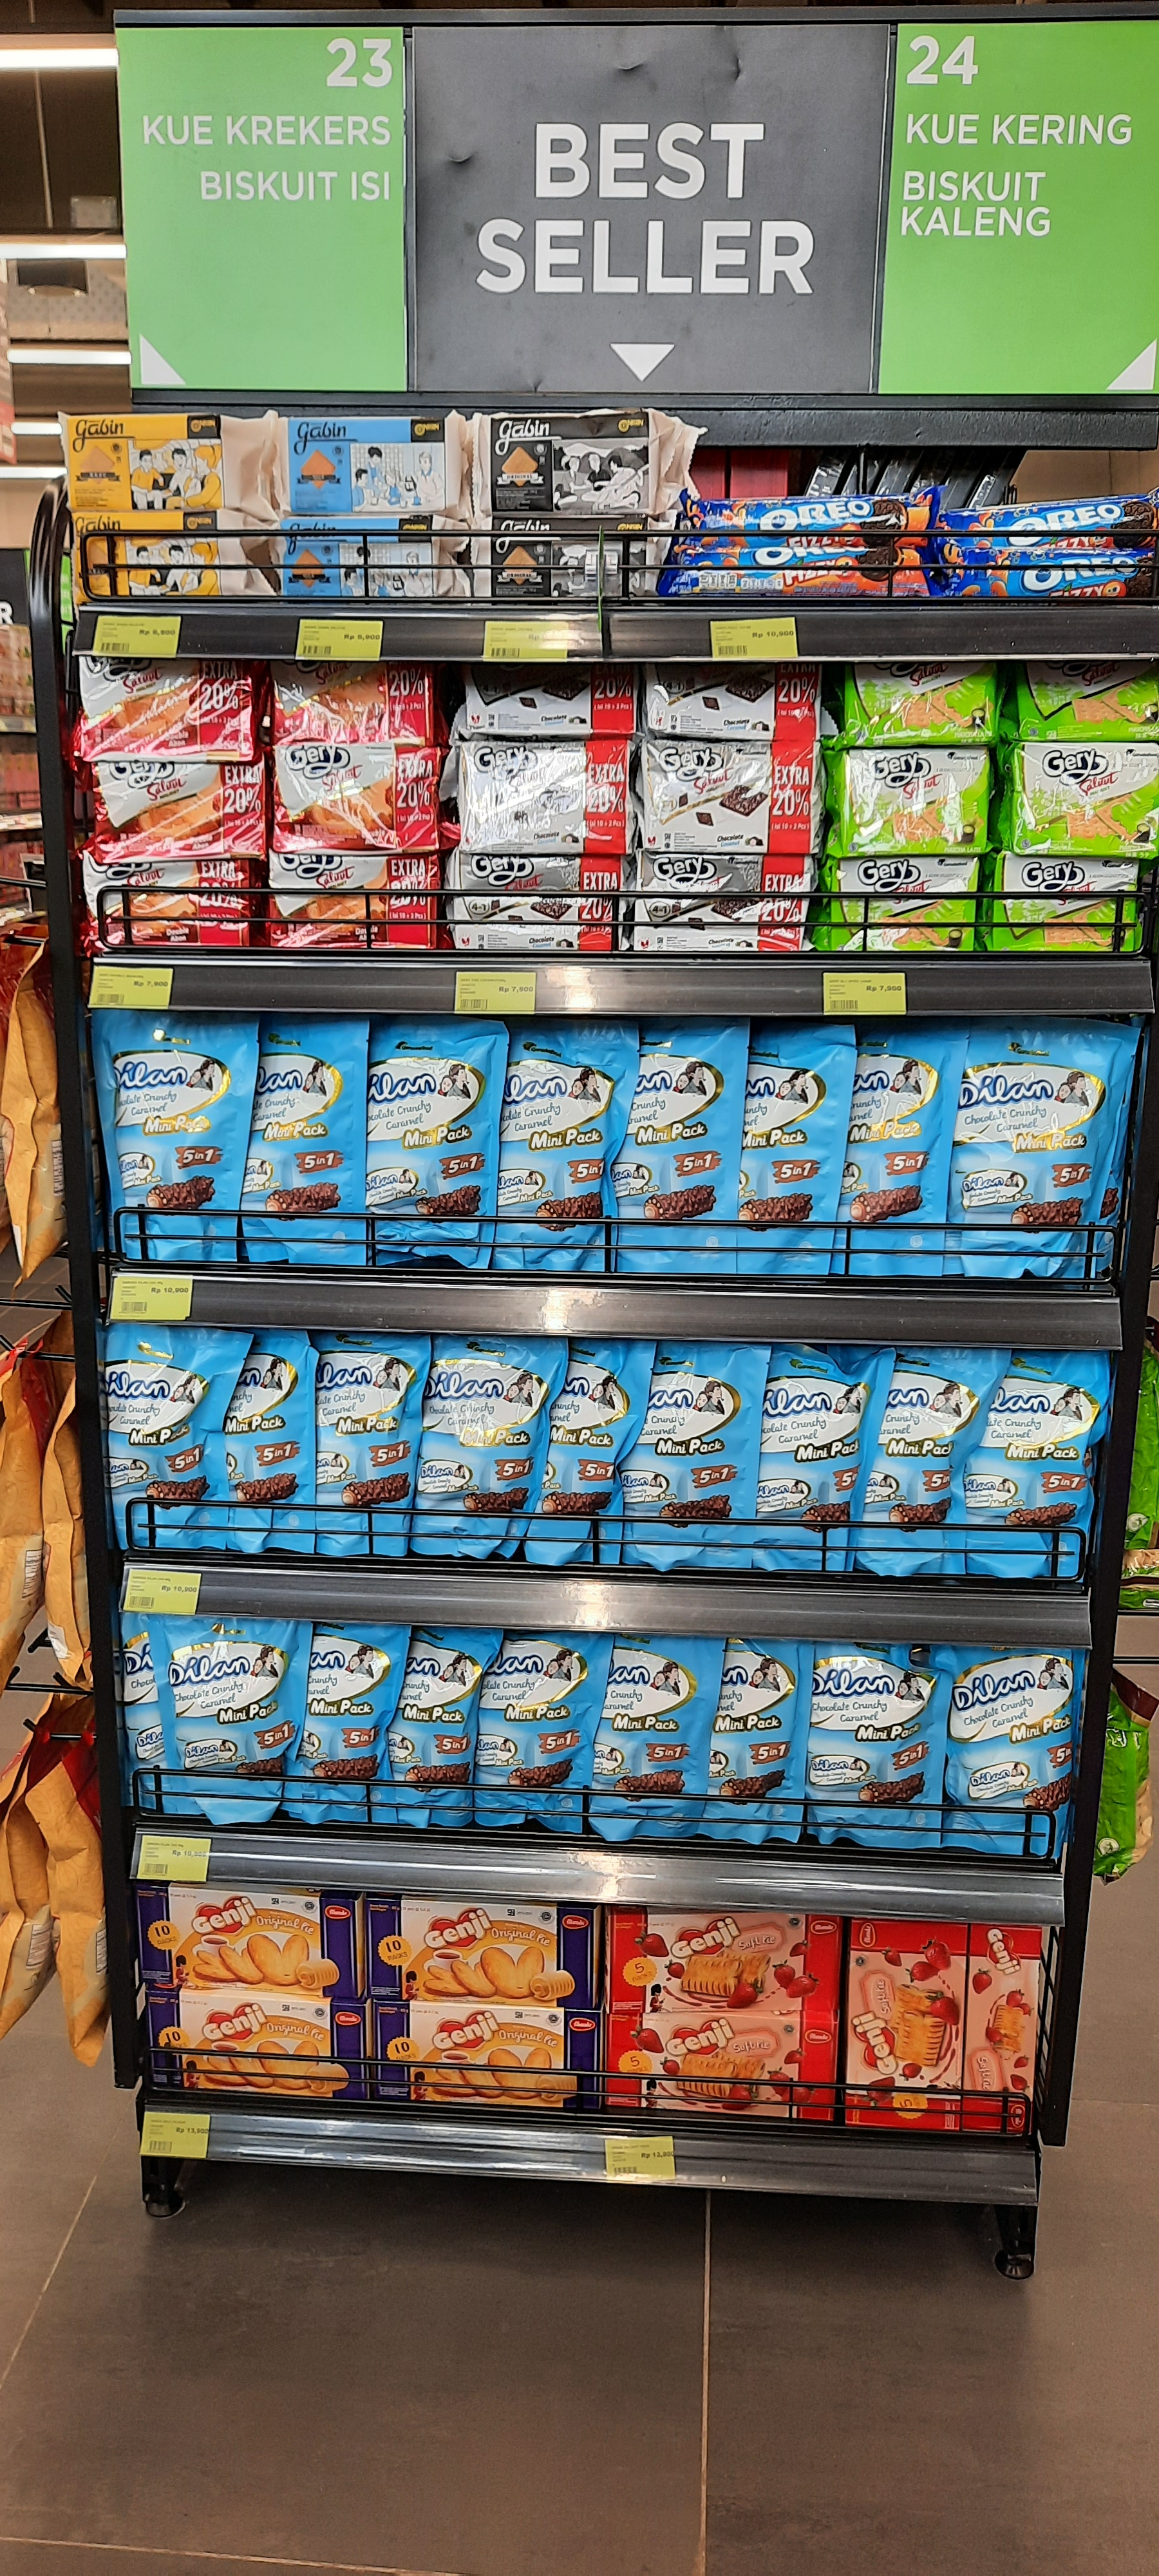90101225212101/Gery Saluut Malkist Matcha 100gr: (998, 743, 1159, 856), (829, 746, 992, 853), (827, 744, 990, 851), (822, 856, 980, 951), (988, 856, 1143, 951), (841, 659, 1000, 739), (1008, 659, 1159, 739)
90101225218101/Gery Saluut MlkstCklt Kelapa-105g: (453, 739, 634, 853), (642, 741, 822, 853), (634, 856, 813, 953), (450, 853, 621, 953), (645, 664, 819, 738), (644, 662, 818, 736), (465, 662, 639, 736)
90101225226101/Gery Malkist Saluut Abon - 105 Gr: (271, 743, 442, 851), (85, 759, 269, 858), (84, 757, 268, 856), (76, 655, 253, 757), (266, 854, 440, 950), (84, 859, 261, 948), (269, 660, 433, 743)
90101232211100/DILAN Choco Crunchy C.Pouch 9.5g: (944, 1022, 1123, 1280), (97, 1015, 248, 1262), (609, 1022, 747, 1278), (363, 1017, 501, 1272), (960, 1350, 1105, 1577), (240, 1015, 369, 1265), (621, 1342, 758, 1571), (492, 1019, 616, 1272), (415, 1336, 550, 1556), (834, 1025, 949, 1275), (808, 1641, 942, 1843), (158, 1617, 295, 1812), (944, 1646, 1077, 1848), (752, 1347, 867, 1574), (107, 1327, 223, 1549), (742, 1023, 844, 1270), (862, 1347, 969, 1574), (864, 1349, 969, 1576), (589, 1636, 709, 1832), (476, 1631, 593, 1832), (317, 1332, 415, 1556), (218, 1329, 315, 1548), (287, 1621, 389, 1824), (709, 1640, 809, 1838), (389, 1626, 478, 1825)
